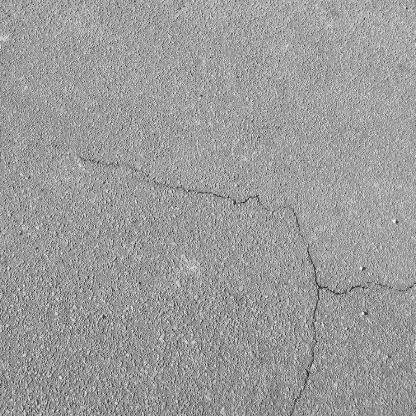Cracks: (73, 150, 416, 416)
